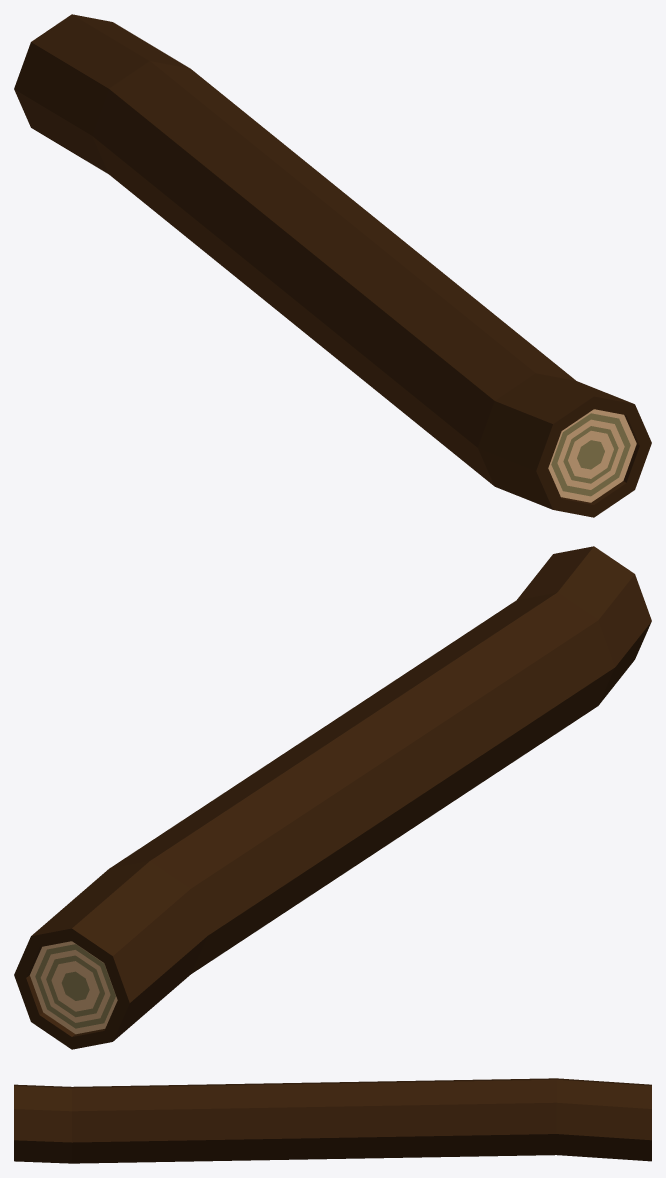
Rendered from Fire_Log.fbx.
3 renders of one model, top to bottom at view 1: azimuth 30°, elevation 25°; view 2: azimuth 150°, elevation 25°; view 3: azimuth 270°, elevation 25°, orthographic. The views are drawn at different scales.
Parts seen in each view (by area): view 1: Fire_Log; view 2: Fire_Log; view 3: Fire_Log.
Part boxes in pixels (bbox=[...]): Fire_Log: bbox=[14, 14, 651, 517]; Fire_Log: bbox=[14, 546, 651, 1049]; Fire_Log: bbox=[14, 1078, 651, 1163].
Size of the model in its own units: 31.04 by 32.89 by 222.
